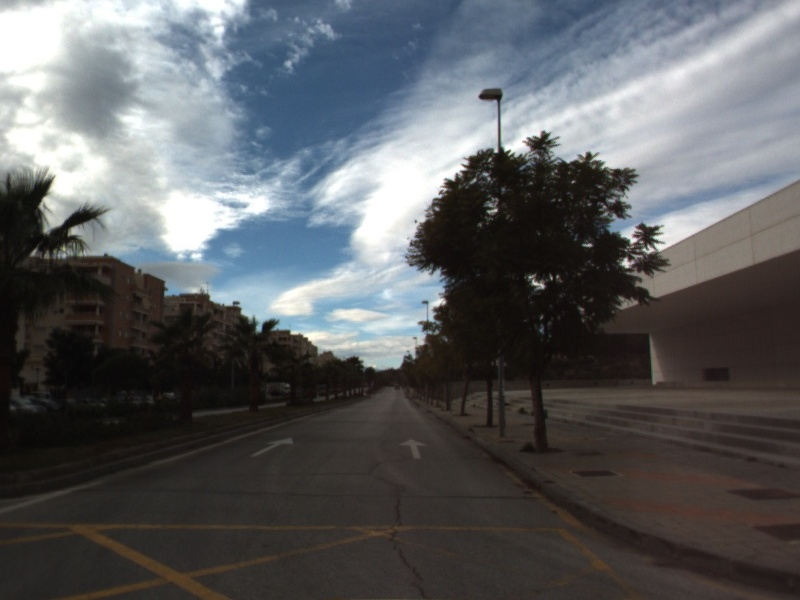STRAIGHT: (248, 435, 295, 459), (398, 436, 429, 461)
